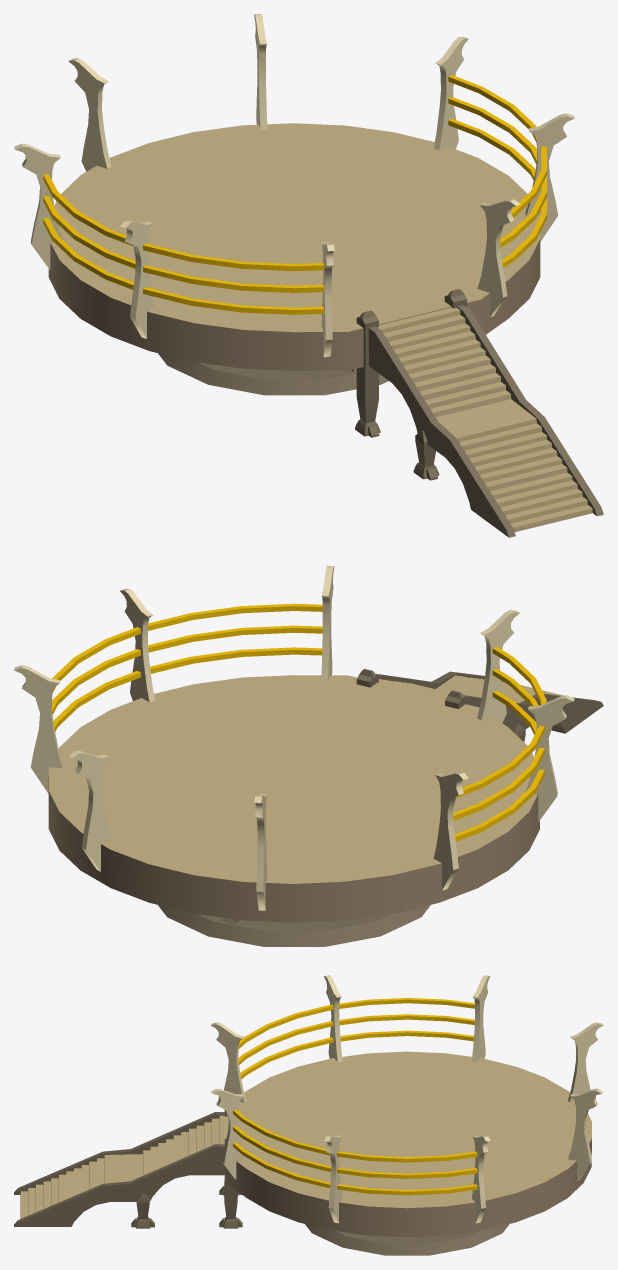
3 views of the same model, one above another, from view 1: azimuth 30°, elevation 25°; view 2: azimuth 150°, elevation 25°; view 3: azimuth 270°, elevation 25° (orthographic). The views are drawn at different scales.
Parts seen in each view (by area): view 1: Geode; view 2: Geode; view 3: Geode.
Part boxes in pixels (x1,y1,x2,y2): Geode: (14,14,603,537); Geode: (14,566,603,946); Geode: (14,975,603,1255).
Bounding box in the file's own units: 14.85 × 6.39 × 22.27.
Materials: 1 (1 with a texture image).
